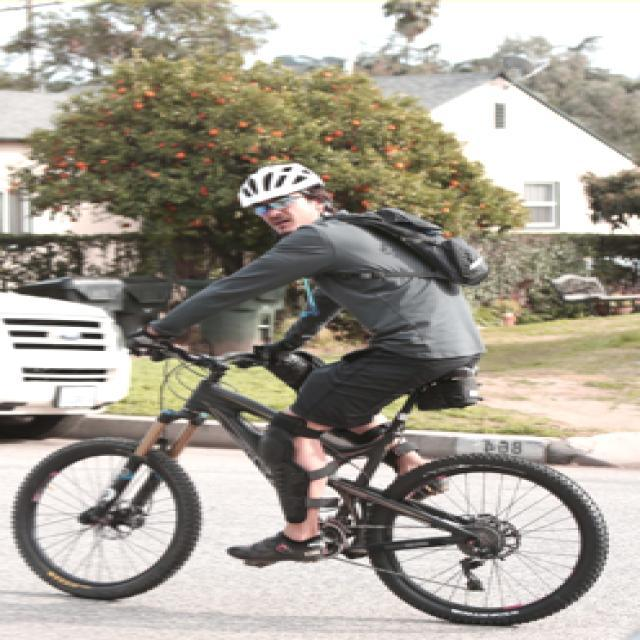Helmet: (212, 144, 352, 253)
